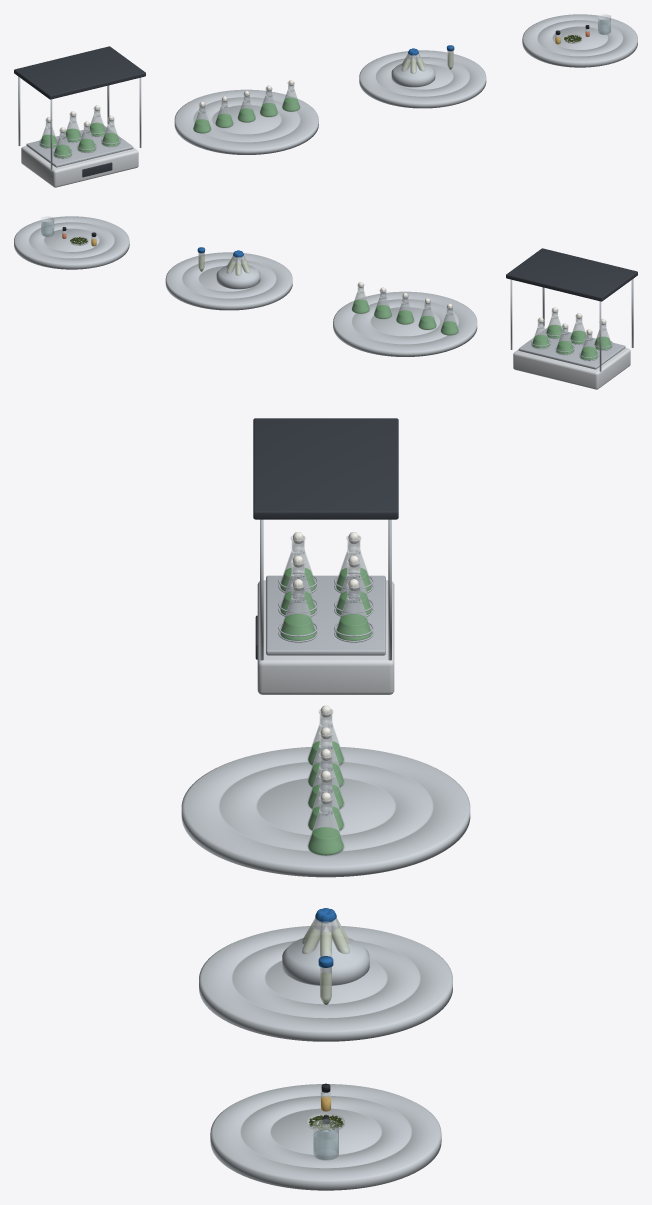
The model's file is lab.glb.
The picture shows the model from 3 angles, top to bottom: view 1: azimuth 30°, elevation 25°; view 2: azimuth 150°, elevation 25°; view 3: azimuth 270°, elevation 25°; orthographic projection. The views are drawn at different scales.
Visible parts, largest first — view 1: Plinth_Stress, Plinth, Plinth_Products, LightPanel, ShakerBase, ShakerPlatform, Rotor, ShakerClamps, Stress3_Glass, Stress4_Glass, Stress0_Glass, Stress1_Glass (+8 smaller); view 2: Plinth_Stress, Plinth, Plinth_Products, LightPanel, ShakerBase, ShakerPlatform, Rotor, ShakerClamps, Stress3_Glass, Stress4_Glass, Stress0_Glass, Stress1_Glass (+7 smaller); view 3: Plinth_Stress, Plinth, Plinth_Products, LightPanel, ShakerBase, ShakerPlatform, Rotor, Stress4_Glass, Flask2_Glass, Flask5_Glass, ShakerClamps.
Boxes of the visible parts, bbox=[...] form: Plinth_Stress: bbox=[174, 89, 318, 154]; Plinth: bbox=[359, 50, 486, 108]; Plinth_Products: bbox=[522, 14, 637, 67]; LightPanel: bbox=[14, 46, 145, 99]; ShakerBase: bbox=[21, 146, 138, 187]; ShakerPlatform: bbox=[26, 125, 133, 167]; Rotor: bbox=[391, 63, 435, 87]; ShakerClamps: bbox=[39, 127, 120, 158]; Stress3_Glass: bbox=[260, 88, 277, 117]; Stress4_Glass: bbox=[282, 82, 300, 111]; Stress0_Glass: bbox=[193, 104, 211, 133]; Stress1_Glass: bbox=[215, 98, 233, 127]; Plinth_Stress: bbox=[333, 291, 477, 356]; Plinth: bbox=[165, 252, 292, 310]; Plinth_Products: bbox=[14, 216, 129, 269]; LightPanel: bbox=[506, 248, 637, 301]; ShakerBase: bbox=[513, 348, 630, 389]; ShakerPlatform: bbox=[518, 327, 625, 369]; Rotor: bbox=[216, 265, 260, 289]; ShakerClamps: bbox=[531, 329, 612, 360]; Stress3_Glass: bbox=[374, 289, 391, 319]; Stress4_Glass: bbox=[351, 284, 369, 313]; Stress0_Glass: bbox=[440, 306, 458, 335]; Stress1_Glass: bbox=[418, 300, 436, 329]; Plinth_Stress: bbox=[181, 747, 470, 877]; Plinth: bbox=[199, 926, 452, 1041]; Plinth_Products: bbox=[210, 1084, 441, 1190]; LightPanel: bbox=[253, 418, 398, 519]; ShakerBase: bbox=[257, 580, 394, 694]; ShakerPlatform: bbox=[266, 575, 385, 655]; Rotor: bbox=[282, 938, 369, 985]; Stress4_Glass: bbox=[307, 796, 344, 856]; Flask2_Glass: bbox=[280, 582, 316, 642]; Flask5_Glass: bbox=[335, 582, 371, 642]; ShakerClamps: bbox=[278, 572, 373, 642].
Size of the model in its own units: 323 by 49.1 by 67.5.
